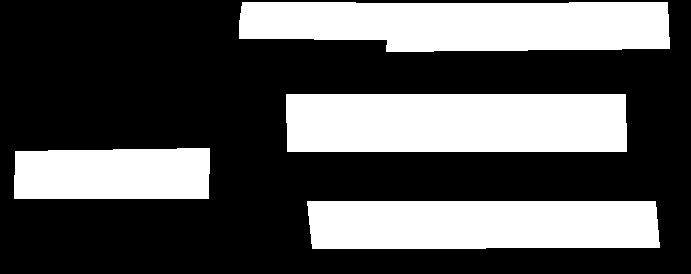parkingspot: (239, 2, 669, 51), (286, 94, 626, 151), (307, 201, 659, 248), (14, 148, 209, 198)
